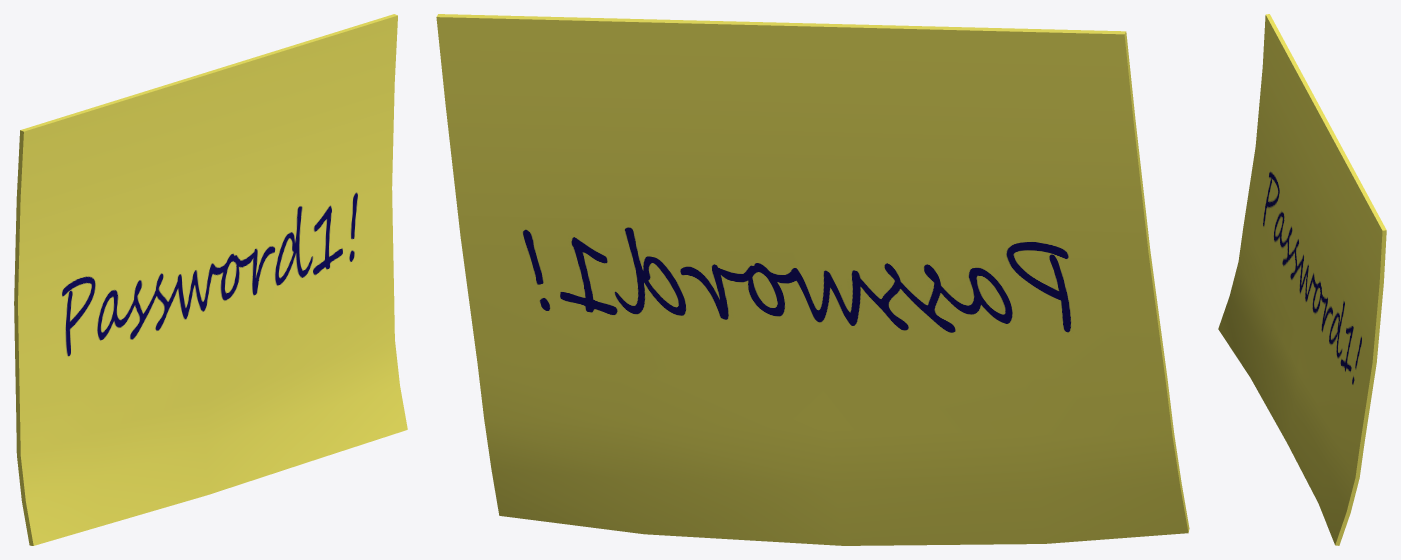
File: FindPassword_interactable_L1_v5.gltf
3 views of the same model, side by side, from view 1: azimuth 30°, elevation 25°; view 2: azimuth 150°, elevation 25°; view 3: azimuth 270°, elevation 25° (orthographic). The views are drawn at different scales.
Parts seen in each view (by area): view 1: Level_1_Sticky; view 2: Level_1_Sticky; view 3: Level_1_Sticky.
Part boxes in pixels (box(x1,y1,x2,y2)): Level_1_Sticky: box(14, 14, 407, 545); Level_1_Sticky: box(436, 14, 1189, 545); Level_1_Sticky: box(1218, 14, 1386, 545).
Bounding box in the file's own units: 0.1981 × 0.1763 × 0.0749.
1 material, 1 textured.
